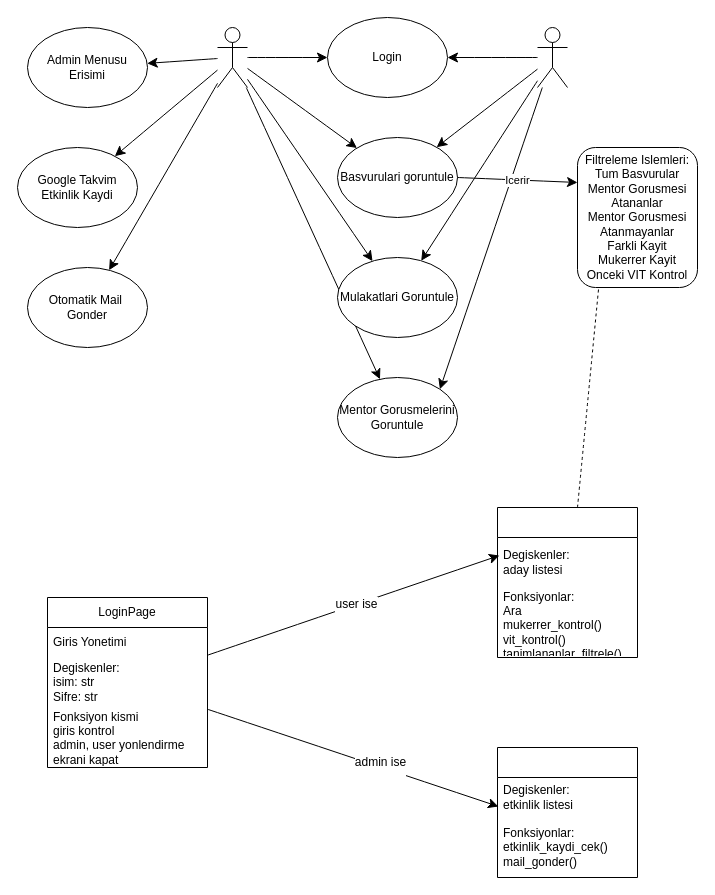
Some shapes in this 715 by 895 pixel diagram are drawn without their labels. Here are the shapes that lost their labels. From the top down, the box of each, then its label:
(216, 26, 248, 88): Admin
(536, 26, 568, 88): User
(496, 506, 638, 658): BasvurularPage
(496, 746, 638, 878): Adminpage
